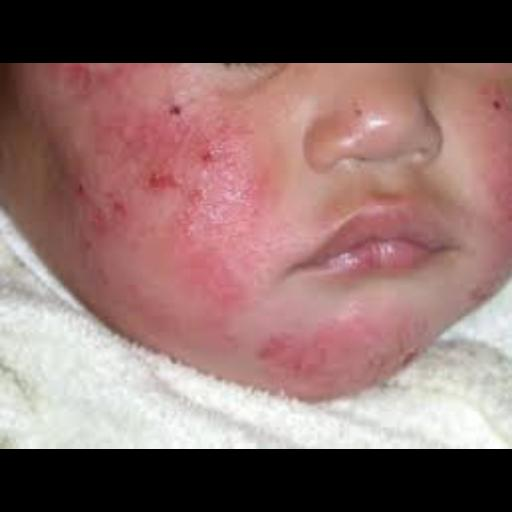Skin_Lesion: (257, 324, 323, 386), (199, 124, 251, 170), (94, 195, 130, 243), (65, 63, 97, 103), (482, 83, 510, 121), (162, 96, 192, 126), (144, 173, 186, 193), (402, 342, 424, 366), (69, 180, 93, 198), (348, 102, 368, 122), (192, 184, 204, 212)
